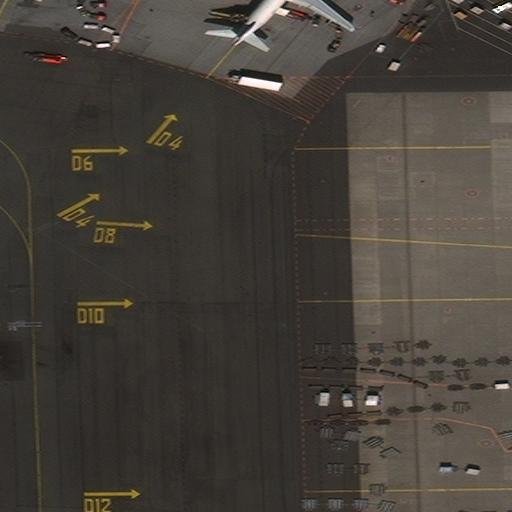Medium Civil Transport: (200, 0, 355, 45)
